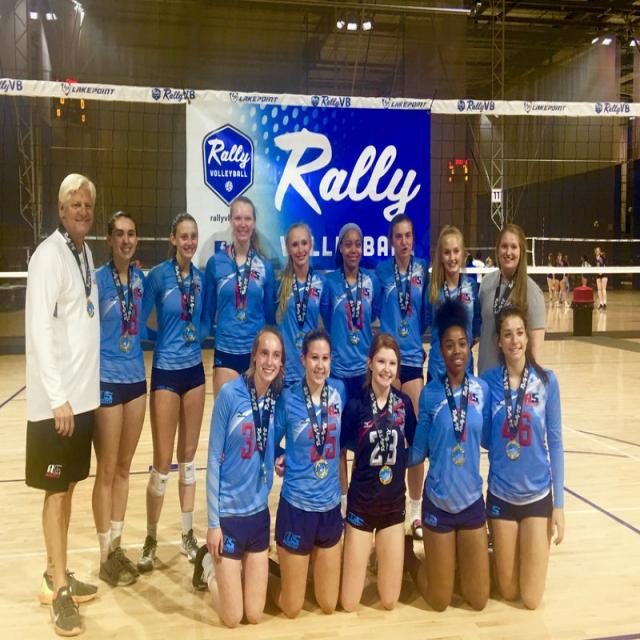body: (21, 169, 101, 636), (402, 294, 494, 616), (192, 324, 288, 630), (478, 303, 566, 609), (338, 331, 431, 614), (136, 211, 207, 575), (267, 326, 349, 621), (90, 209, 146, 590), (373, 211, 432, 542), (321, 218, 382, 536), (203, 193, 278, 404), (475, 220, 547, 378), (421, 222, 484, 386), (271, 221, 332, 389), (592, 246, 610, 310), (464, 249, 494, 272), (553, 253, 566, 306), (544, 252, 556, 304), (560, 250, 571, 300), (580, 253, 593, 287)
